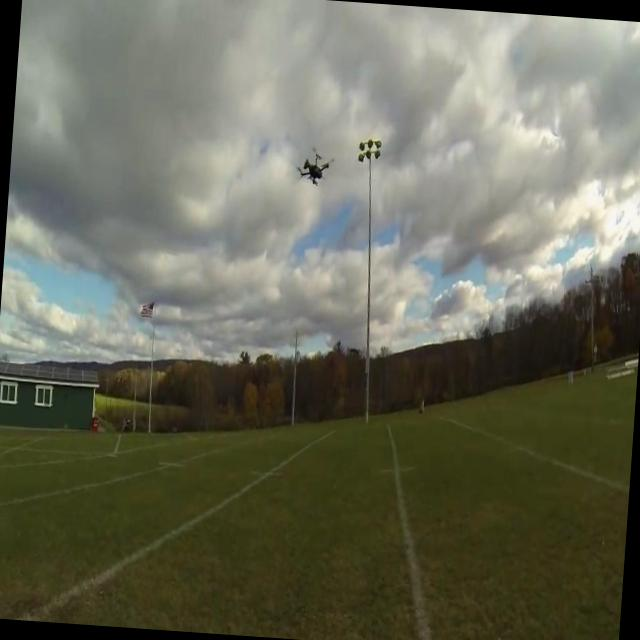drone: (293, 148, 332, 195)
